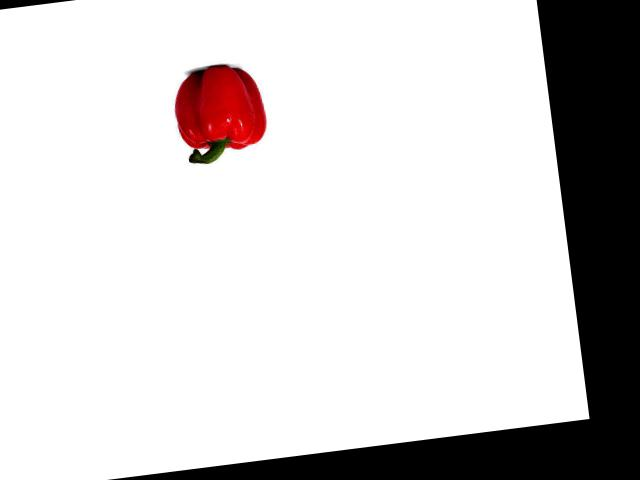bell_pepper: (167, 60, 276, 168)
